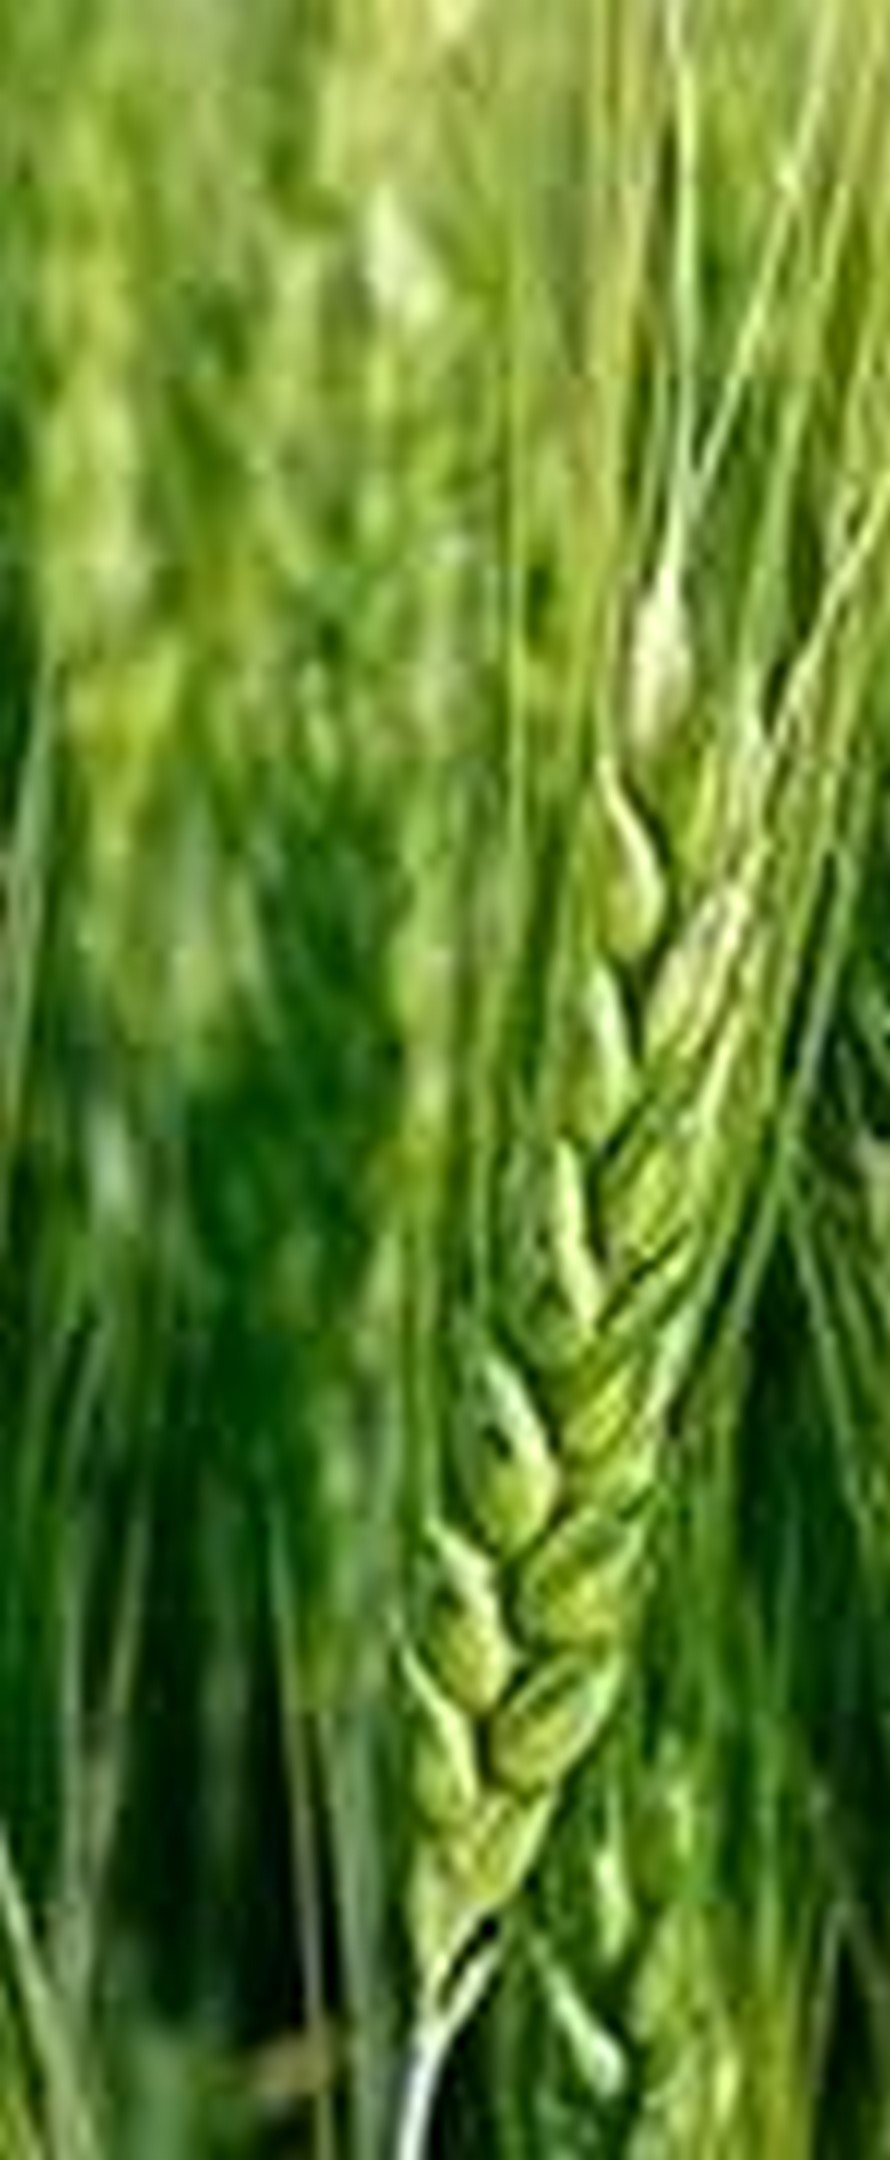Healthy Wheat: (397, 647, 856, 1873)
